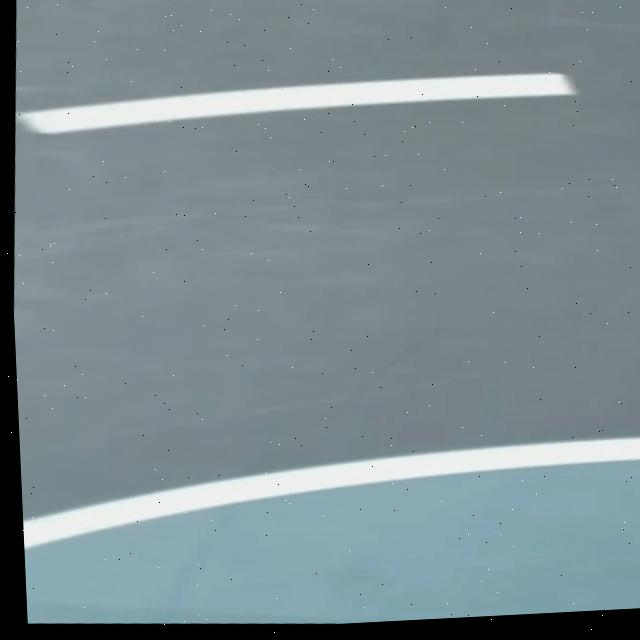center: (15, 73, 576, 132)
left: (23, 437, 640, 550)
